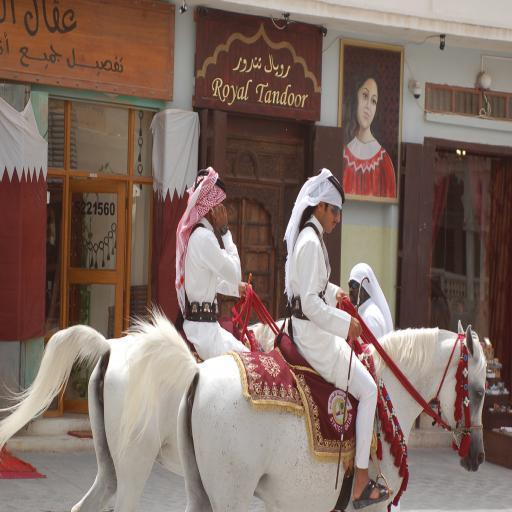horse: (108, 300, 488, 512), (0, 316, 290, 512)
